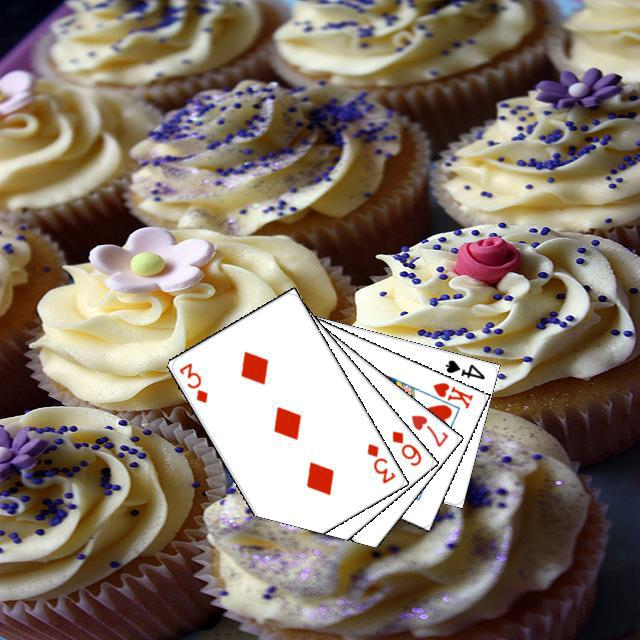3d: (362, 438, 397, 485), (174, 358, 209, 405)
4s: (440, 355, 487, 381)
6d: (387, 426, 423, 468)
7h: (406, 410, 450, 449)
Kh: (420, 377, 475, 413)
